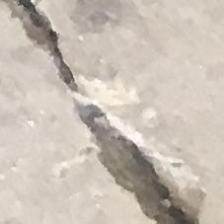Crack: (7, 0, 205, 224)
